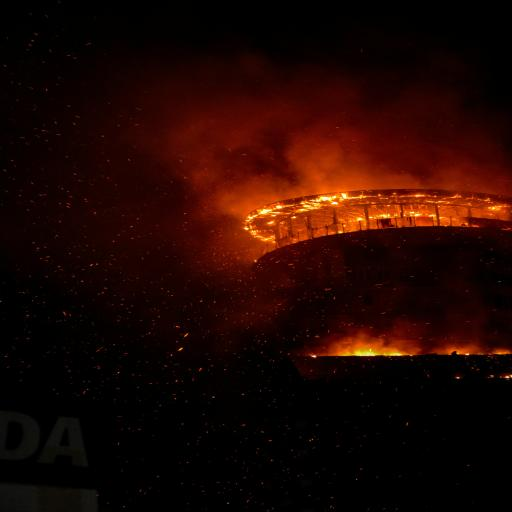buildingfire: (154, 179, 512, 376)
smoke: (91, 21, 512, 218)
